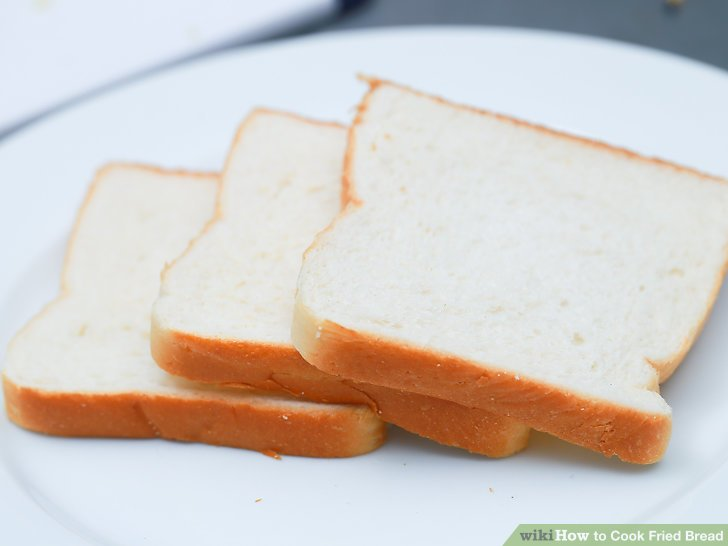slice of bread: (333, 72, 715, 463), (152, 71, 379, 402), (4, 165, 237, 441)
